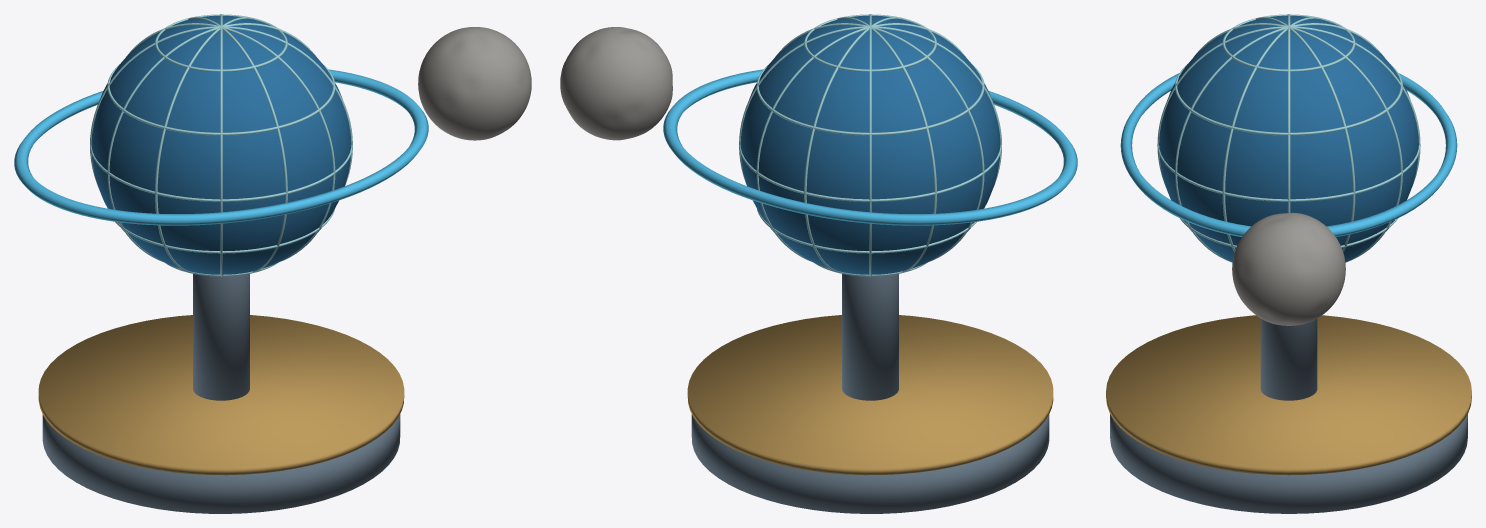
Rendered from earthsky-tides-v1-ultra.glb.
3 renders of one model, left to right at view 1: azimuth 30°, elevation 25°; view 2: azimuth 150°, elevation 25°; view 3: azimuth 270°, elevation 25°, orthographic.
Parts seen in each view (by area): view 1: earth-ocean, brass-trim, weighted-base, moon, exaggerated-tide-outline, pedestal, longitude.005, latitude.003, longitude.004, longitude, latitude.002, longitude.001 (+4 smaller); view 2: earth-ocean, brass-trim, weighted-base, moon, exaggerated-tide-outline, pedestal, longitude.001, latitude.003, longitude.002, longitude, latitude.002, longitude.005 (+4 smaller); view 3: brass-trim, earth-ocean, weighted-base, moon, exaggerated-tide-outline, pedestal, longitude.003, latitude.003, longitude.002, longitude.004, latitude.002, longitude.001 (+3 smaller).
Boxes of the visible parts, x1,y1,x2,y2 form: earth-ocean: [91, 15, 351, 274]; brass-trim: [38, 315, 404, 475]; weighted-base: [42, 414, 400, 513]; moon: [418, 27, 531, 140]; exaggerated-tide-outline: [14, 69, 428, 225]; pedestal: [193, 274, 249, 400]; longitude.005: [90, 26, 352, 185]; latitude.003: [107, 64, 335, 135]; longitude.004: [126, 23, 335, 262]; longitude: [107, 23, 316, 262]; latitude.002: [90, 145, 352, 201]; longitude.001: [155, 17, 254, 272]; earth-ocean: [740, 15, 1000, 274]; brass-trim: [687, 315, 1053, 475]; weighted-base: [691, 414, 1049, 513]; moon: [560, 27, 672, 140]; exaggerated-tide-outline: [663, 69, 1077, 225]; pedestal: [842, 274, 898, 400]; longitude.001: [739, 26, 1001, 185]; latitude.003: [756, 64, 984, 135]; longitude.002: [756, 23, 965, 262]; longitude: [775, 23, 984, 262]; latitude.002: [739, 145, 1001, 201]; longitude.005: [837, 17, 936, 272]; brass-trim: [1106, 315, 1471, 475]; earth-ocean: [1159, 15, 1418, 262]; weighted-base: [1110, 414, 1467, 513]; moon: [1232, 212, 1345, 325]; exaggerated-tide-outline: [1120, 73, 1457, 236]; pedestal: [1260, 319, 1317, 400]; longitude.003: [1157, 26, 1420, 185]; latitude.003: [1175, 64, 1402, 135]; longitude.002: [1194, 23, 1402, 262]; longitude.004: [1175, 23, 1383, 262]; latitude.002: [1157, 145, 1420, 201]; longitude.001: [1256, 17, 1355, 252].
Bounding box in the file's own units: 0.6991 × 0.5593 × 0.45.
